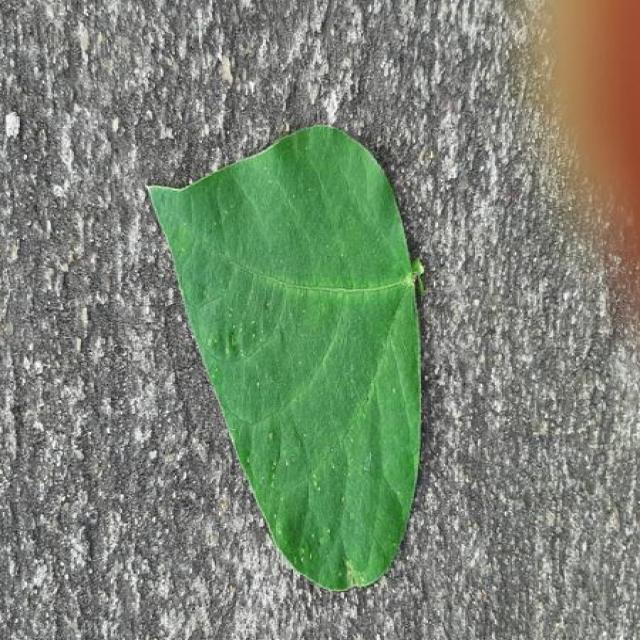beans: (148, 126, 422, 589)
